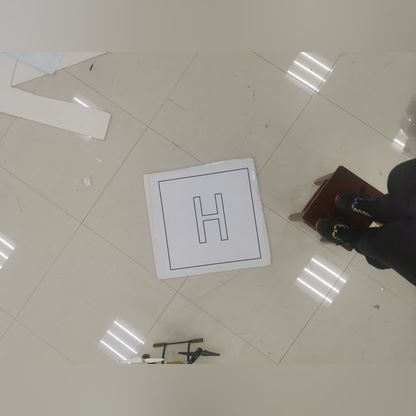H: (176, 186, 242, 250)
